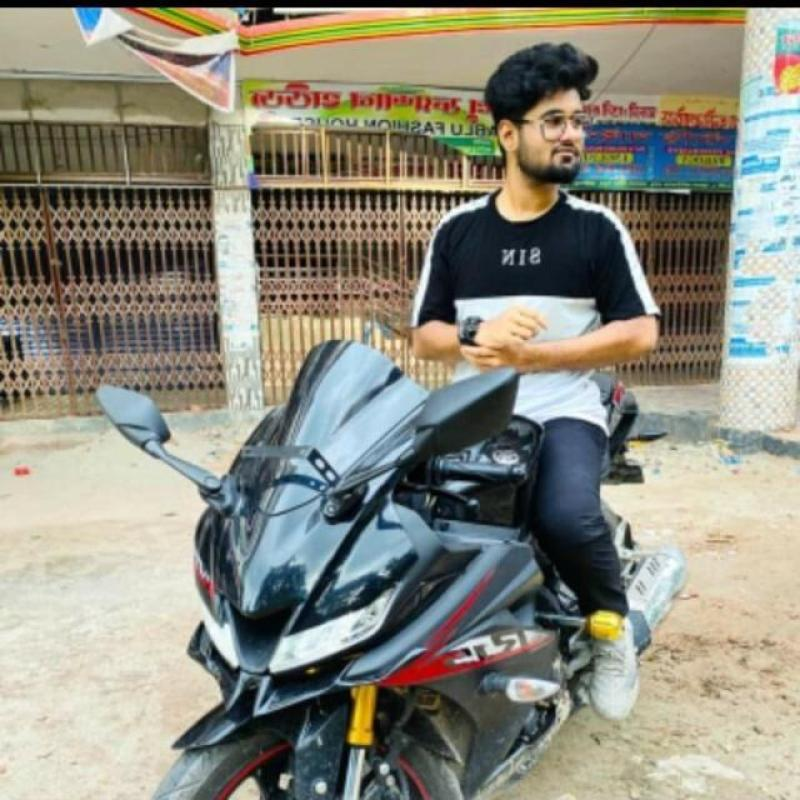nohelmet: (488, 46, 612, 195)
